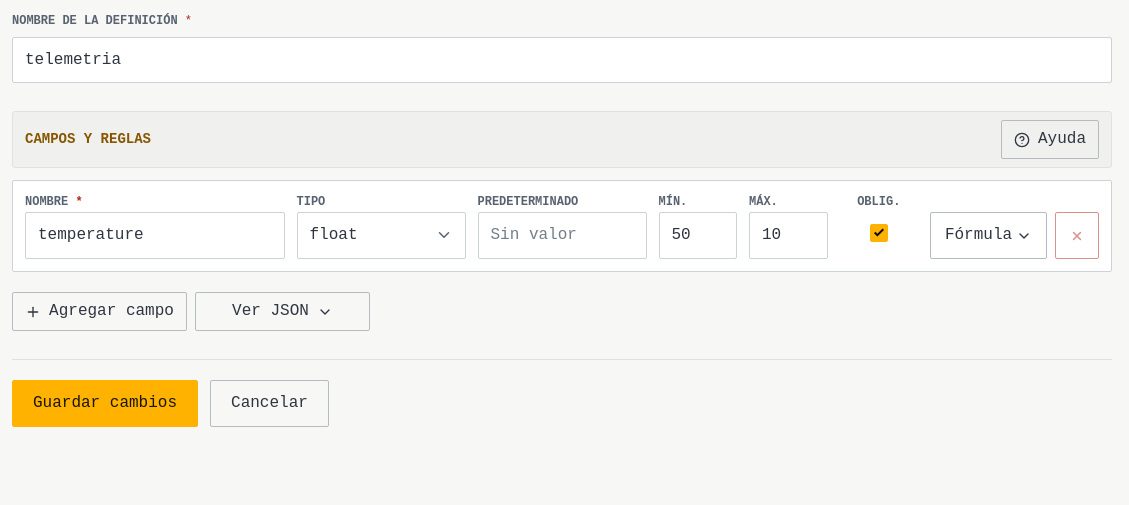
Scenario: SchemaBuilder › explica un rango inválido antes de guardar
Click the button "Guardar cambios" at (105, 404), box [12, 380, 198, 427]
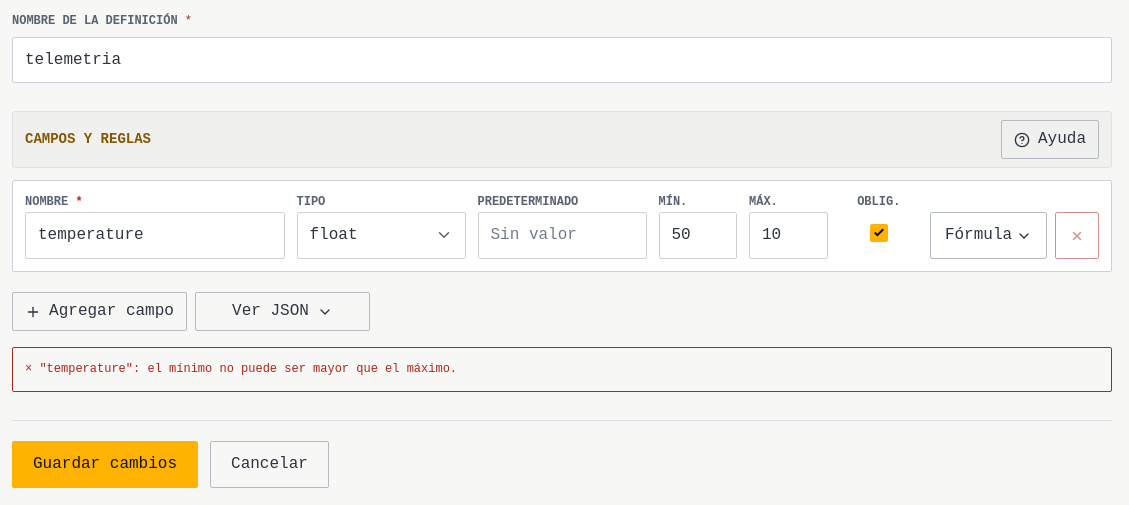
Expected: the message shows "el mínimo no puede ser mayor que el máximo", [39, 362, 457, 376]
